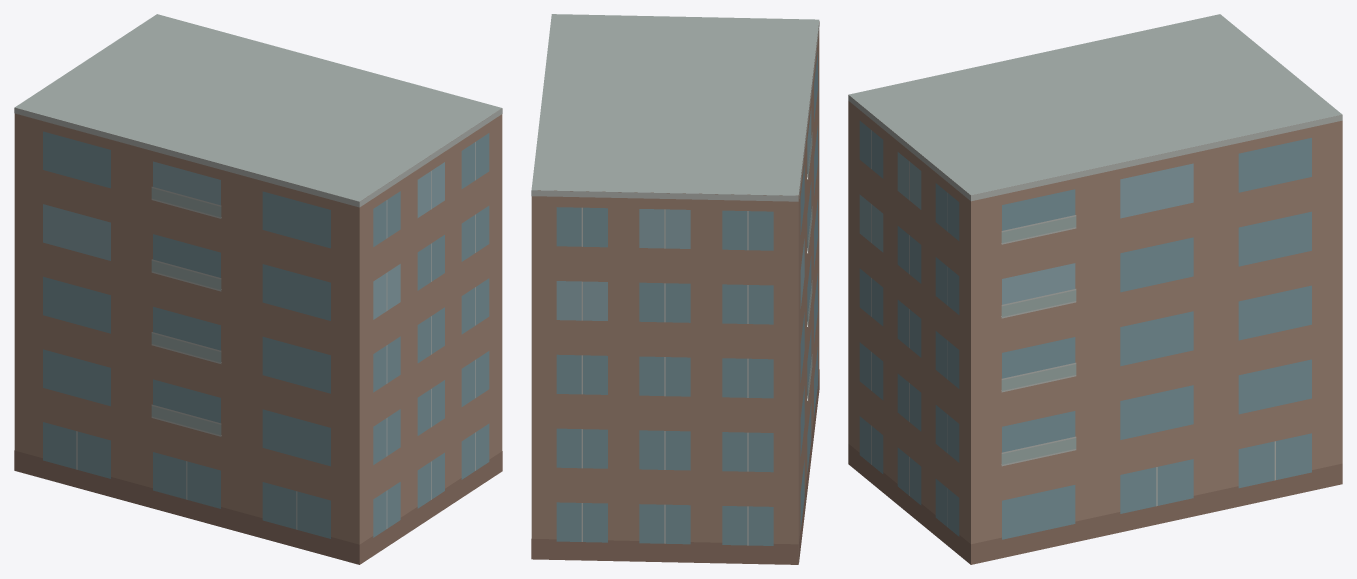
File: survey-upis-32832570.glb
The picture shows the model from 3 angles, left to right: view 1: azimuth 30°, elevation 25°; view 2: azimuth 150°, elevation 25°; view 3: azimuth 270°, elevation 25°; orthographic projection.
Visible parts, largest first — view 1: survey-upis-32832570.tmp; view 2: survey-upis-32832570.tmp; view 3: survey-upis-32832570.tmp.
Boxes of the visible parts, x1=… form: survey-upis-32832570.tmp: x1=14, y1=14, x2=502, y2=564; survey-upis-32832570.tmp: x1=531, y1=14, x2=819, y2=564; survey-upis-32832570.tmp: x1=848, y1=14, x2=1342, y2=564.
Size of the model in its own units: 16.07 by 15.25 by 18.5.
